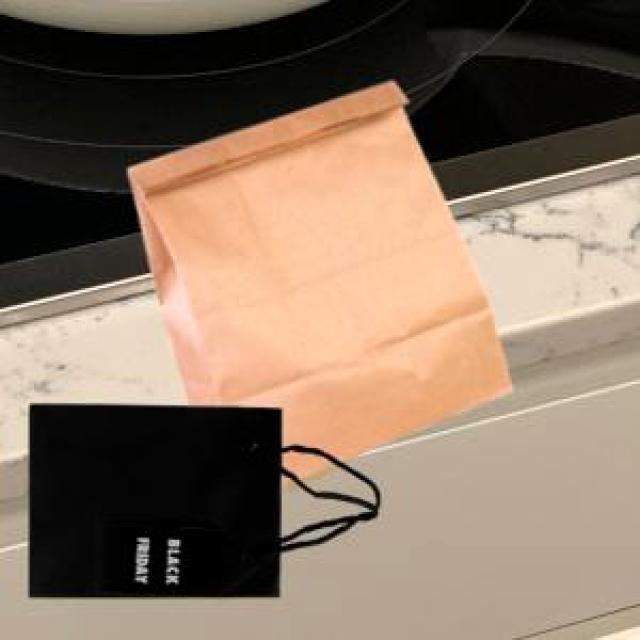Paper_Bag: (125, 78, 509, 475), (26, 402, 376, 594), (280, 460, 336, 488)
